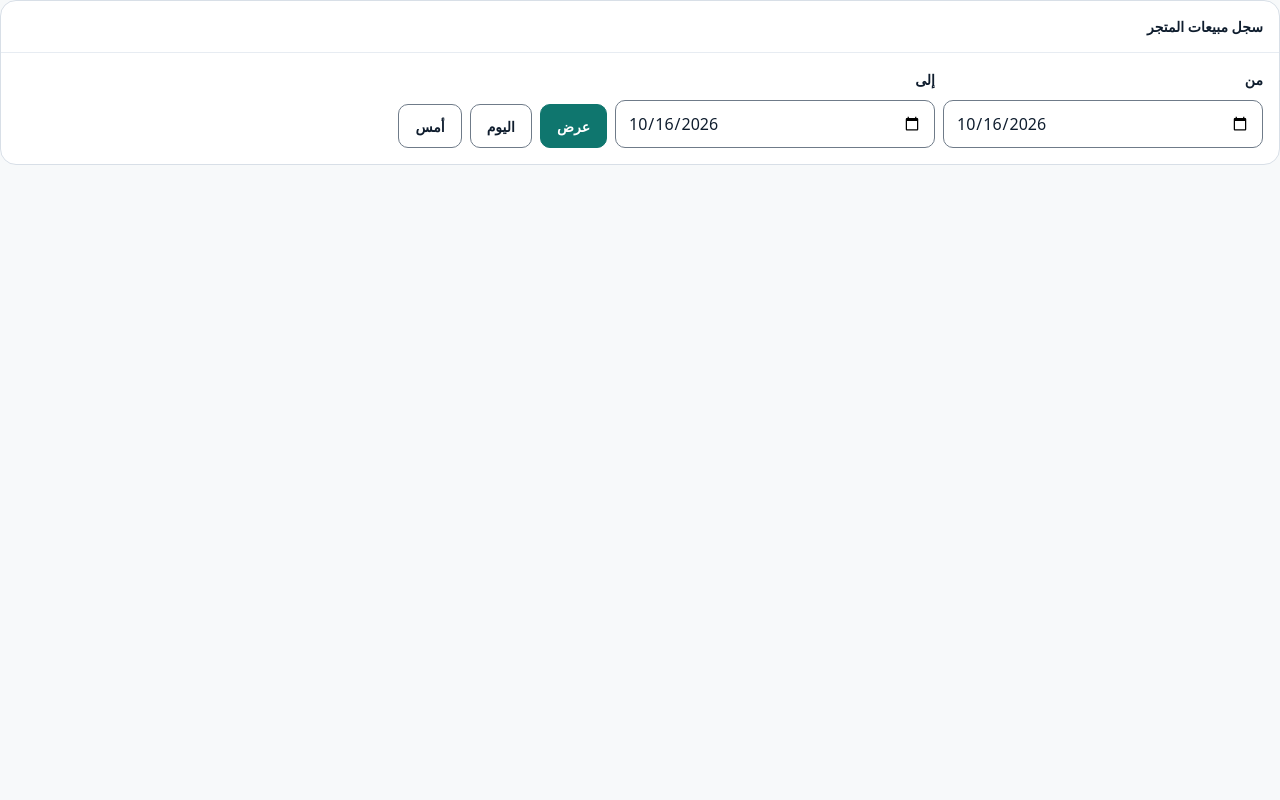
Test: RT-542 SalesHistory — detail and reprint › labels unrecorded receipt facts of a legacy sale
This screenshot has width=1280, height=800.
Click the button "عرض": (574, 126) [540,104,607,148]
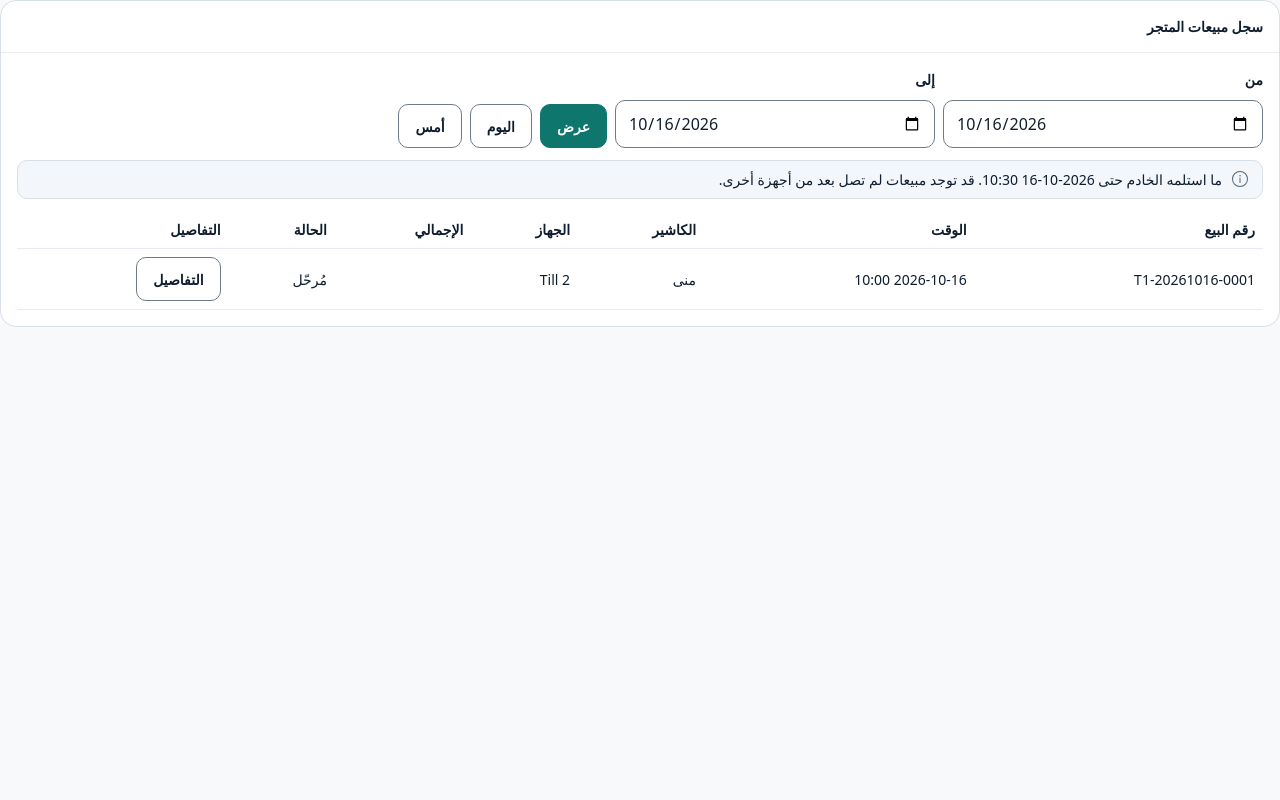
Click the button "التفاصيل": (178, 279) [136,257,221,301]
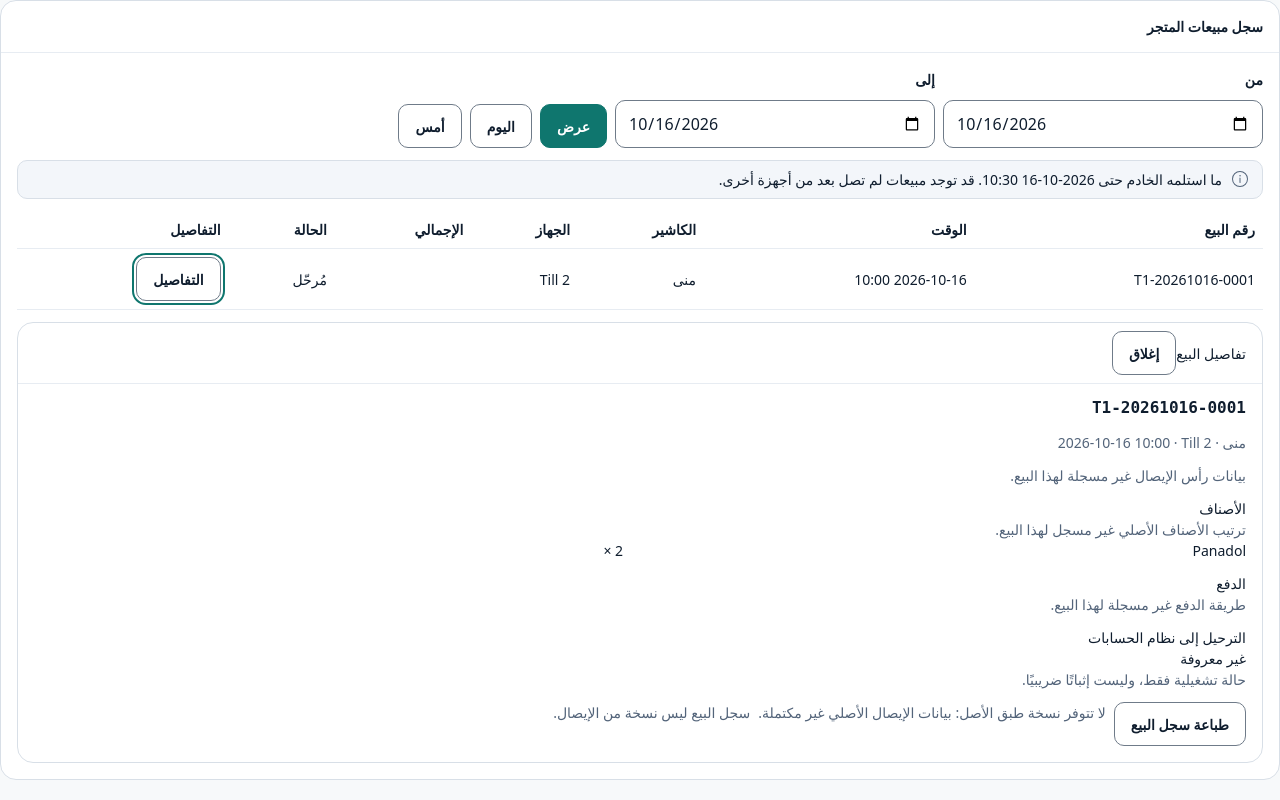
Check: the element with test id "history-detail" shows "طريقة الدفع غير مسجلة لهذا البيع.", box [1051,595,1246,614]
Check: the element with test id "history-detail" shows "بيانات رأس الإيصال غير مسجلة لهذا البيع.", box [1010,466,1246,485]
Check: the element with test id "history-detail" shows "ترتيب الأصناف الأصلي غير مسجل لهذا البيع.", box [995,520,1246,539]
